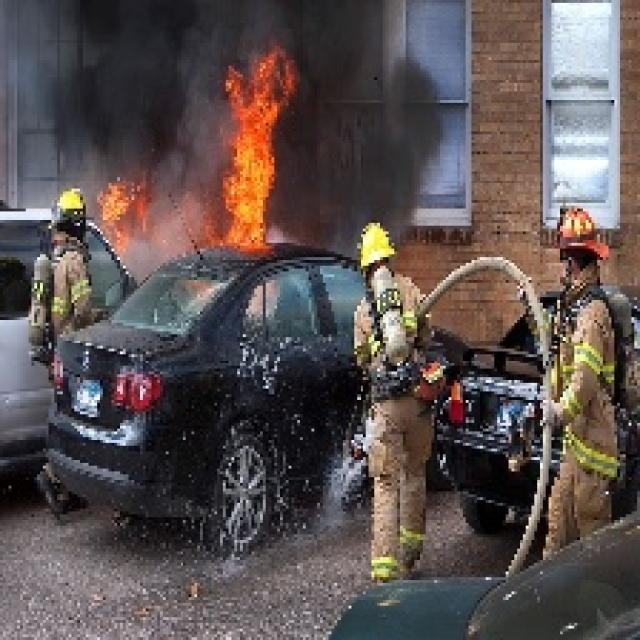Fire: (217, 48, 294, 249)
Smoke: (48, 0, 215, 190), (300, 6, 438, 232)
